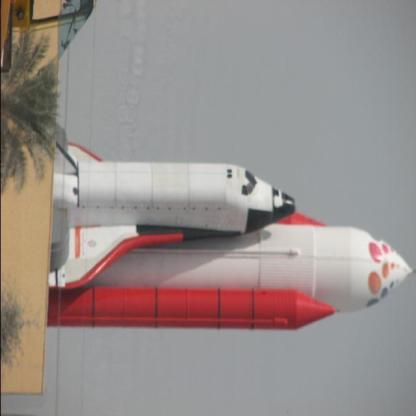MIL_TBM: (72, 158, 308, 234), (57, 278, 347, 334)
